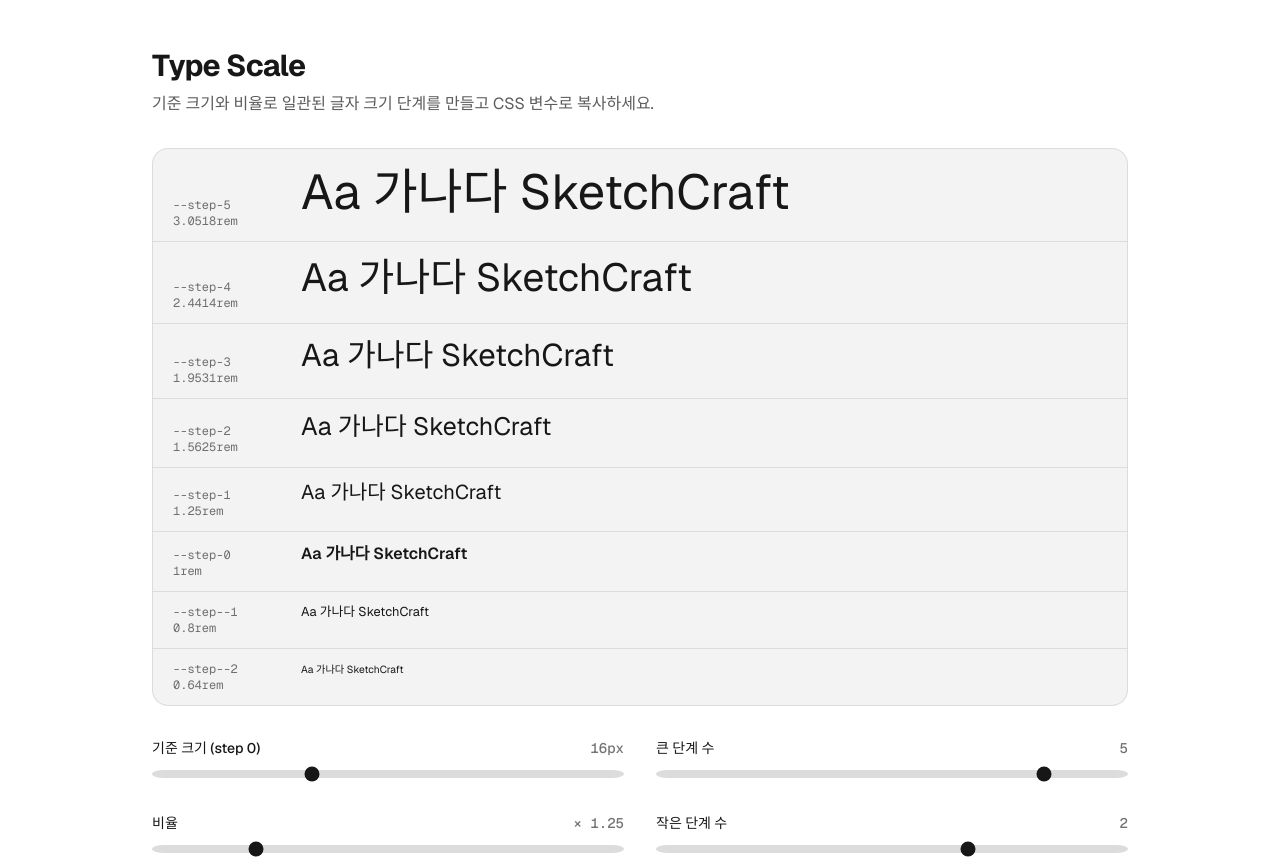
Test case: TypeScaleMaker › 큰 단계 수와 작은 단계 수를 바꾸면 행과 코드가 따라 바뀐다
Set the slider labelled "큰 단계 수 5" to "1": (740, 774) left=656, top=762, right=1128, bottom=786
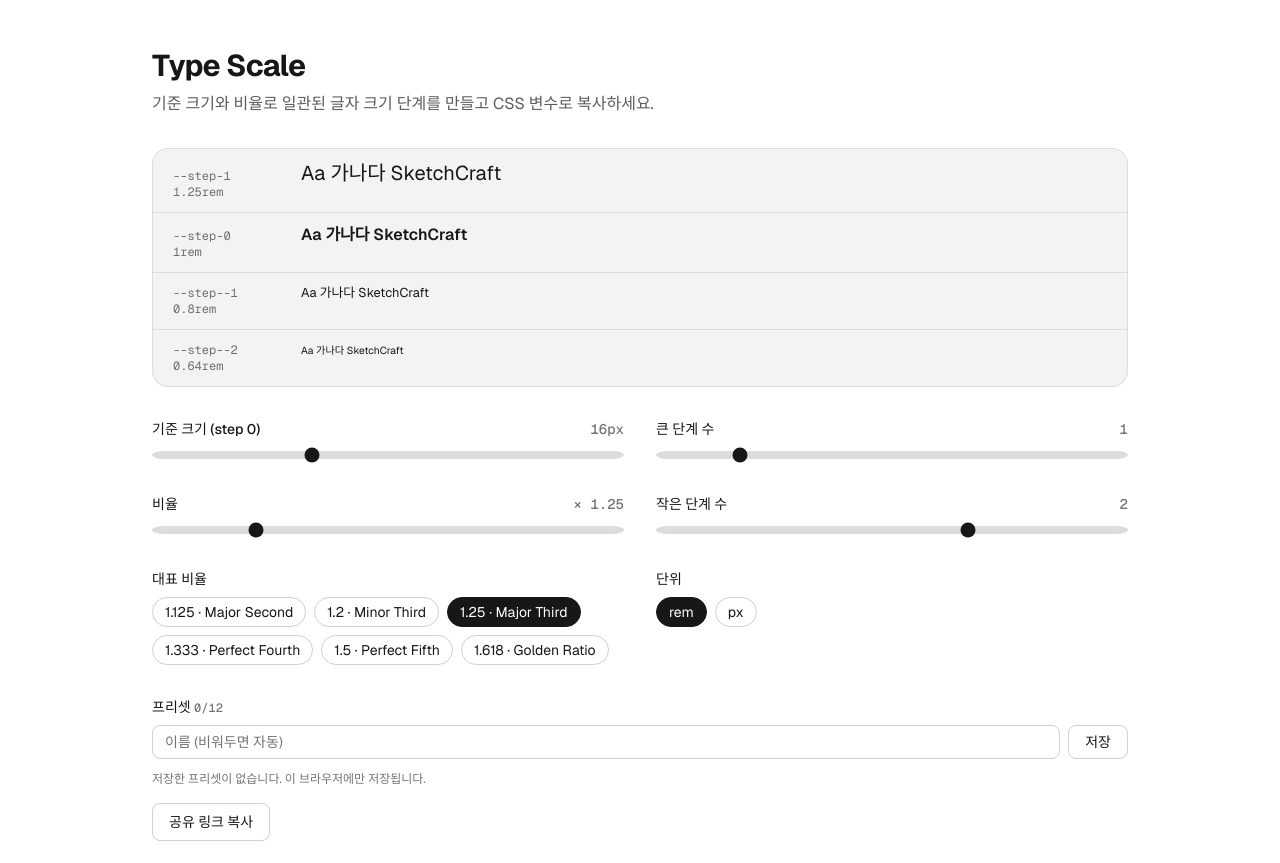
Set the slider labelled "작은 단계 수 2" to "0": (664, 530) left=656, top=518, right=1128, bottom=542
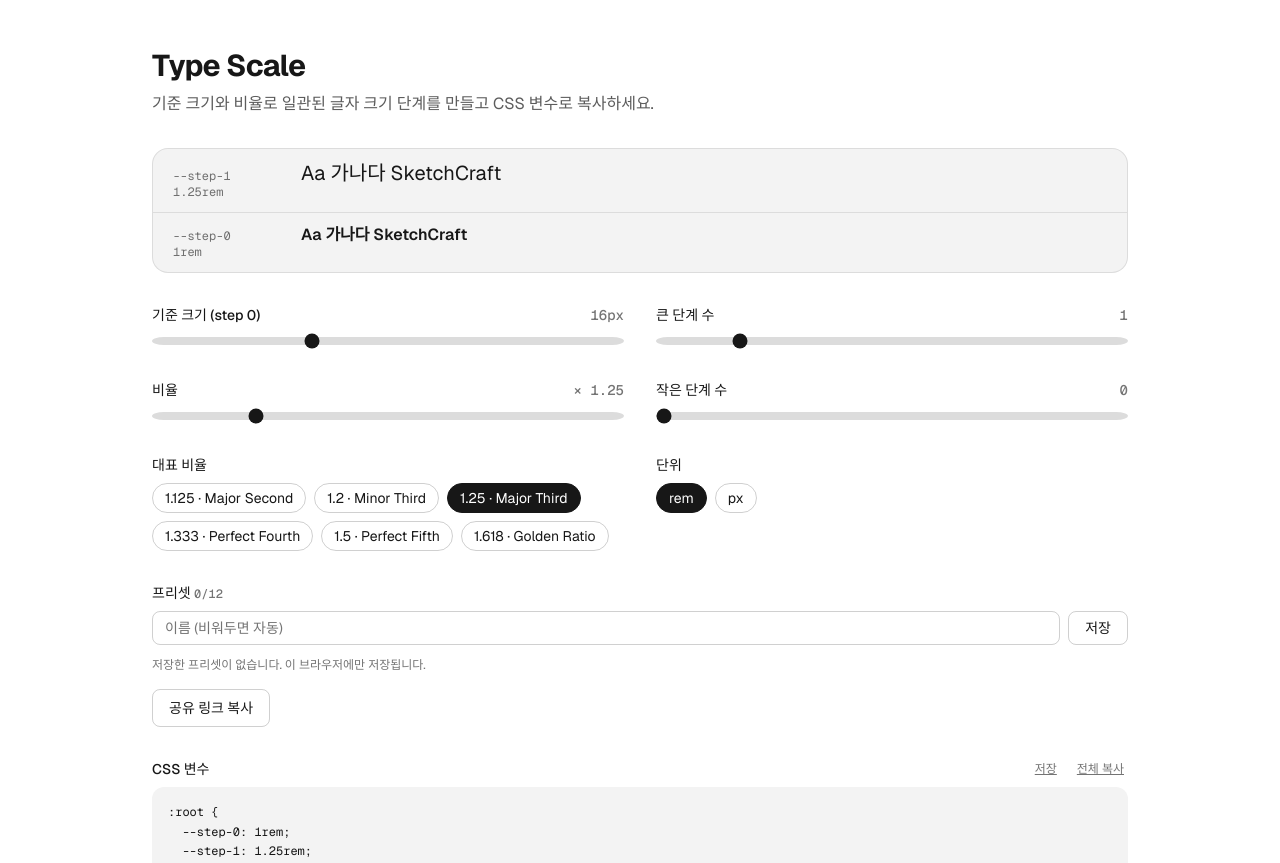
Expected: the number of list items is 2, left=153, top=149, right=1127, bottom=213; left=173, top=224, right=467, bottom=260
